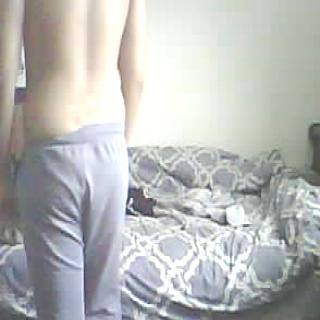Blue Sweatpants: (9, 118, 136, 320)
